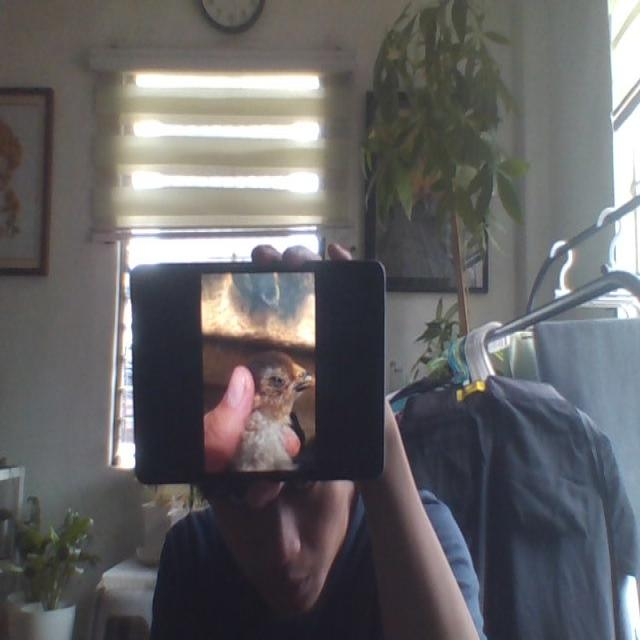Sick: (236, 347, 314, 473)
